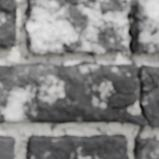brick: (25, 0, 127, 53), (25, 134, 128, 158), (130, 0, 158, 52), (0, 0, 16, 46), (134, 139, 158, 158), (0, 135, 14, 158)
broken_brick: (0, 60, 158, 125), (144, 89, 158, 128)
crack: (104, 2, 158, 156)
